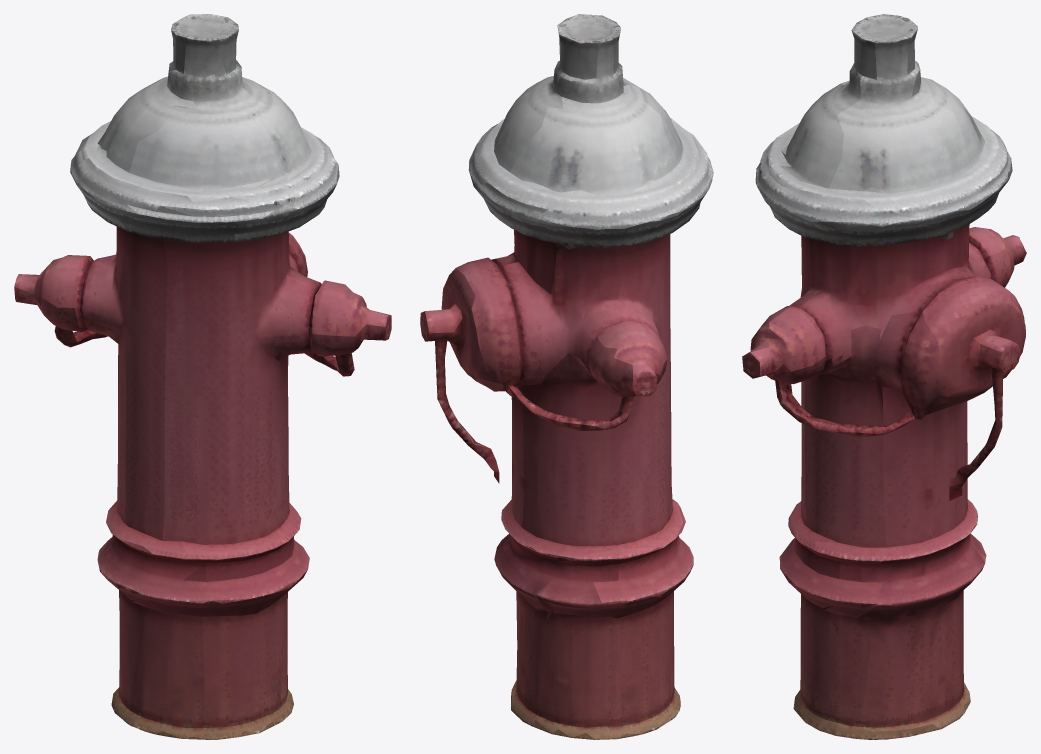
The picture shows the model from 3 angles, left to right: view 1: azimuth 30°, elevation 25°; view 2: azimuth 150°, elevation 25°; view 3: azimuth 270°, elevation 25°; orthographic projection.
Visible parts, largest first — view 1: hydrant-cars; view 2: hydrant-cars; view 3: hydrant-cars.
Boxes of the visible parts, x1,y1,x2,y2 form: hydrant-cars: (14, 14, 391, 739); hydrant-cars: (420, 14, 713, 739); hydrant-cars: (742, 14, 1026, 739).
Size of the model in its own units: 0.2751 by 0.6996 by 0.2666.
Materials: 1 (1 with a texture image).
